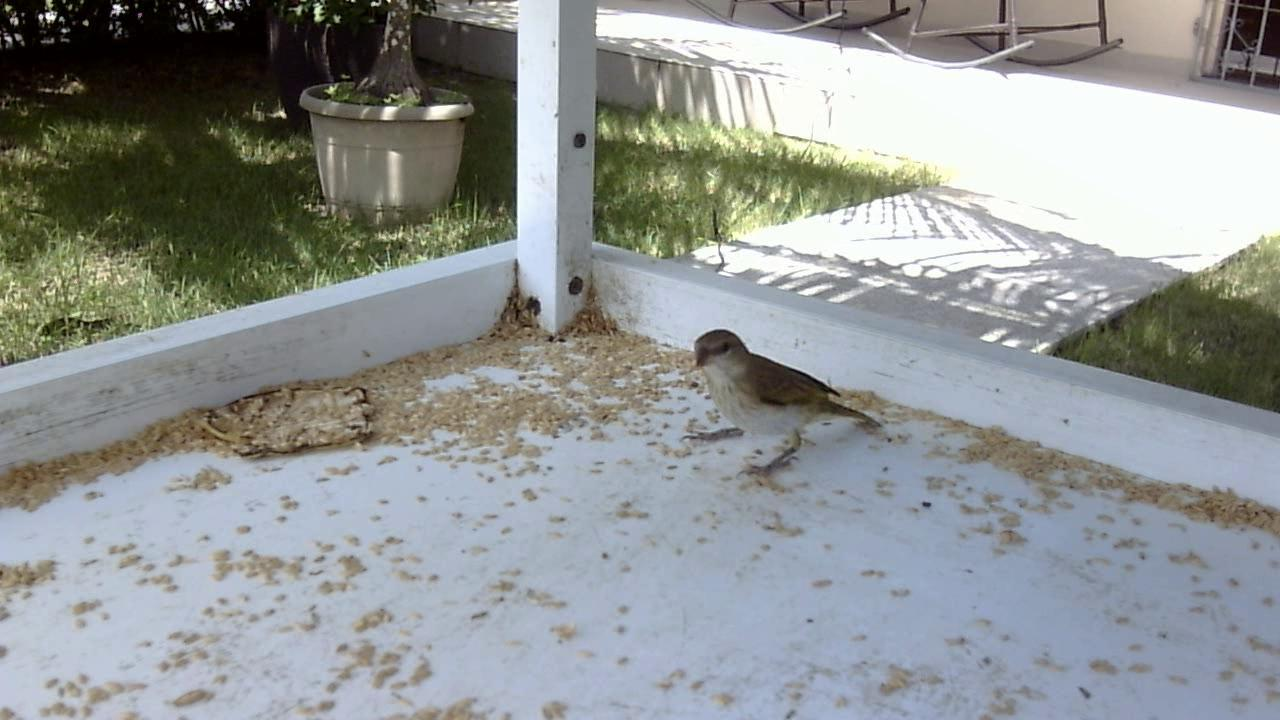canario_do_amazonas: (682, 322, 889, 477)
